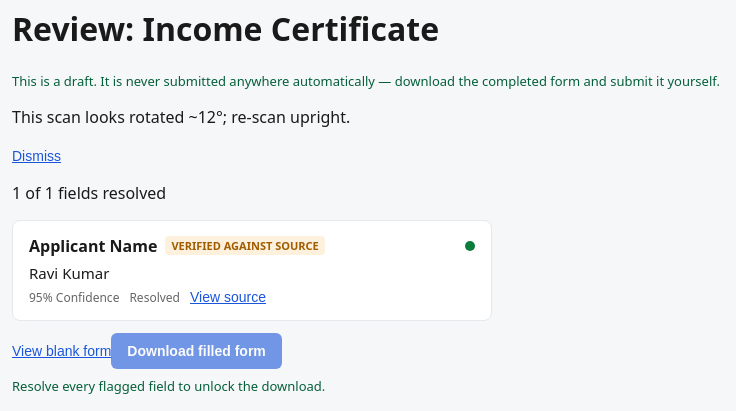
Scenario: Review page › shows the placement warning banner and can dismiss it
This screenshot has width=736, height=411.
Expected: the element with test id "placement-warning" is shown, [12, 106, 350, 164]
Click the button "Dismiss" at (36, 156), box [12, 148, 61, 164]
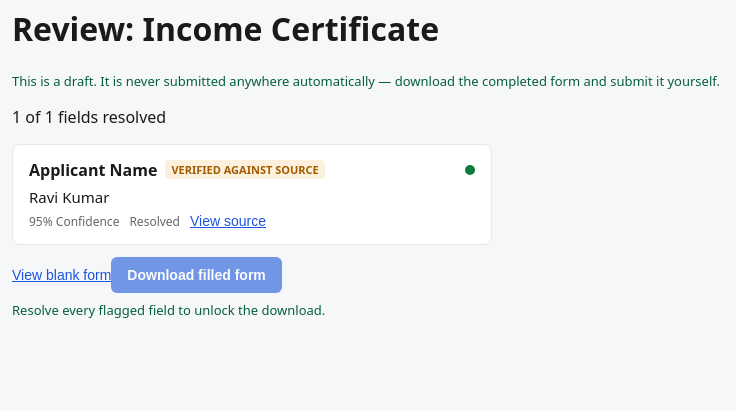
Result: the element with test id "placement-warning" is gone
